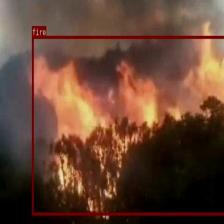fire: (32, 35, 224, 215)
